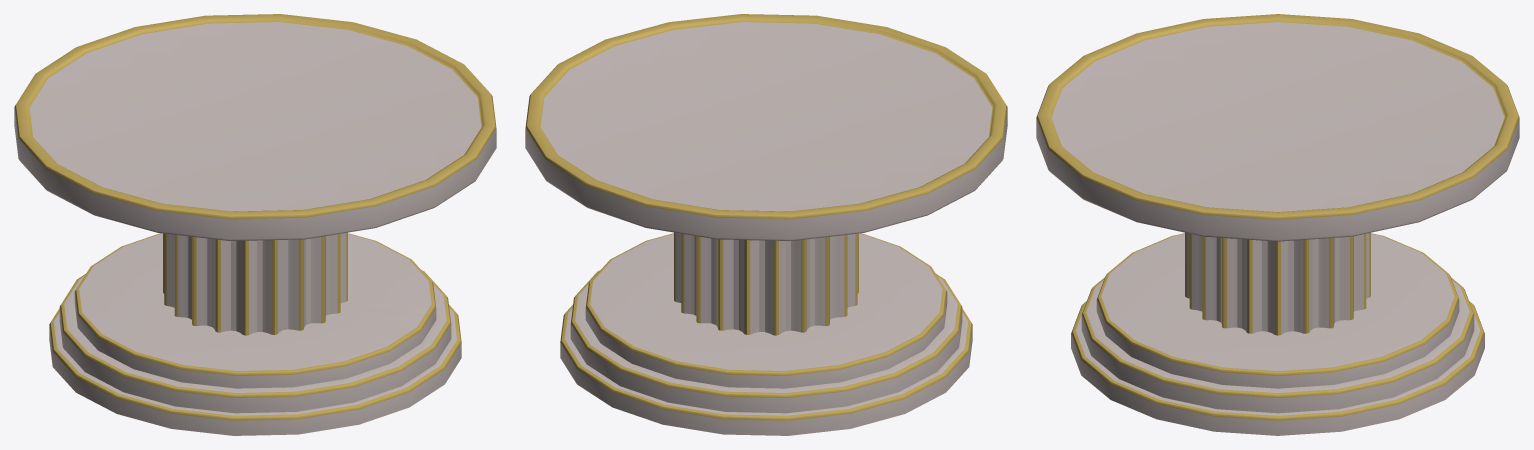
Rendered from P_Altar.fbx.
The picture shows the model from 3 angles, left to right: view 1: azimuth 30°, elevation 25°; view 2: azimuth 150°, elevation 25°; view 3: azimuth 270°, elevation 25°; orthographic projection.
Visible parts, largest first — view 1: P_Altar; view 2: P_Altar; view 3: P_Altar.
Part boxes in pixels (x1=…): P_Altar: x1=14, y1=14, x2=496, y2=435; P_Altar: x1=525, y1=14, x2=1007, y2=435; P_Altar: x1=1036, y1=14, x2=1519, y2=435.
Bounding box in the file's own units: 2.34 × 1.25 × 2.34.
